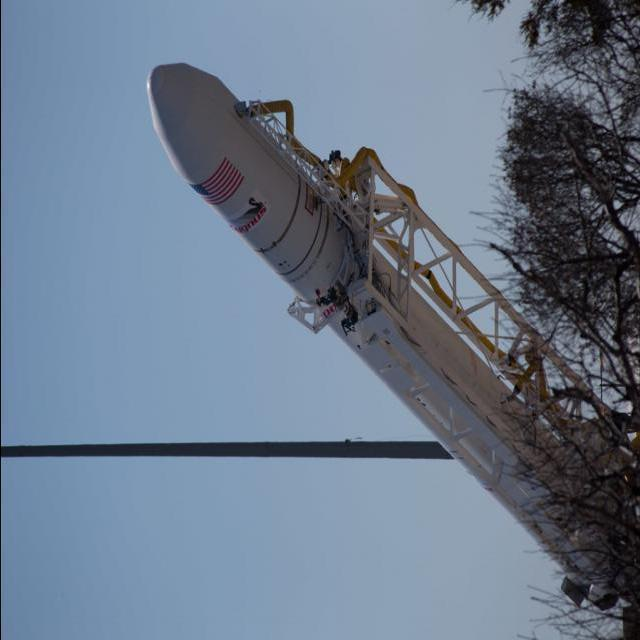missile: (144, 61, 640, 618)
